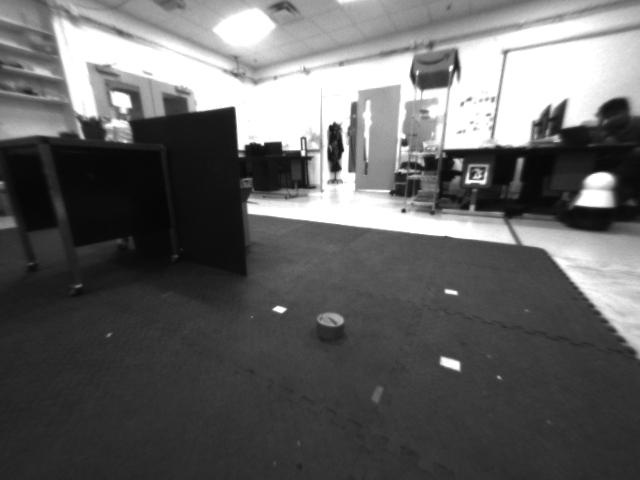dogtoy: (306, 302, 354, 352)
